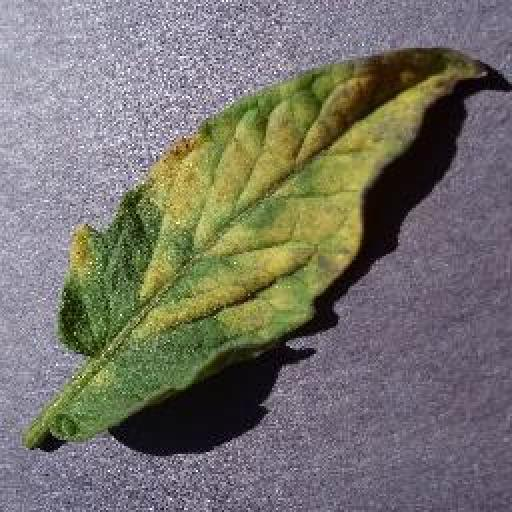disease_tomato: (43, 43, 499, 441)
